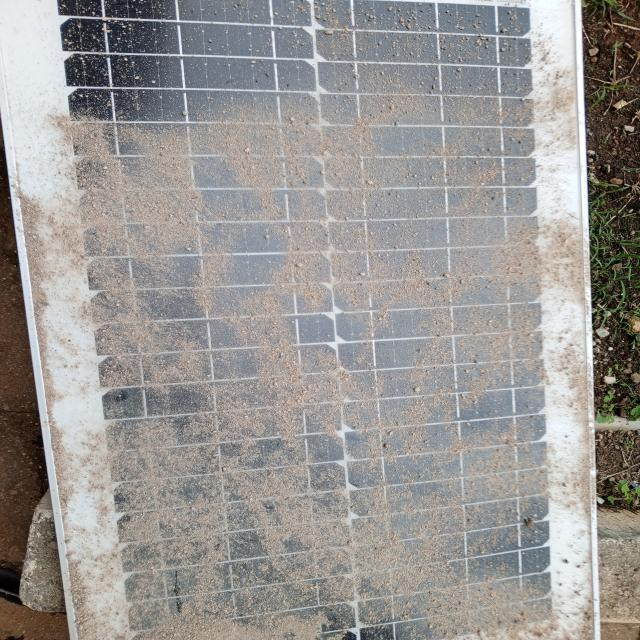Surface Contaminant: (56, 105, 609, 637)
